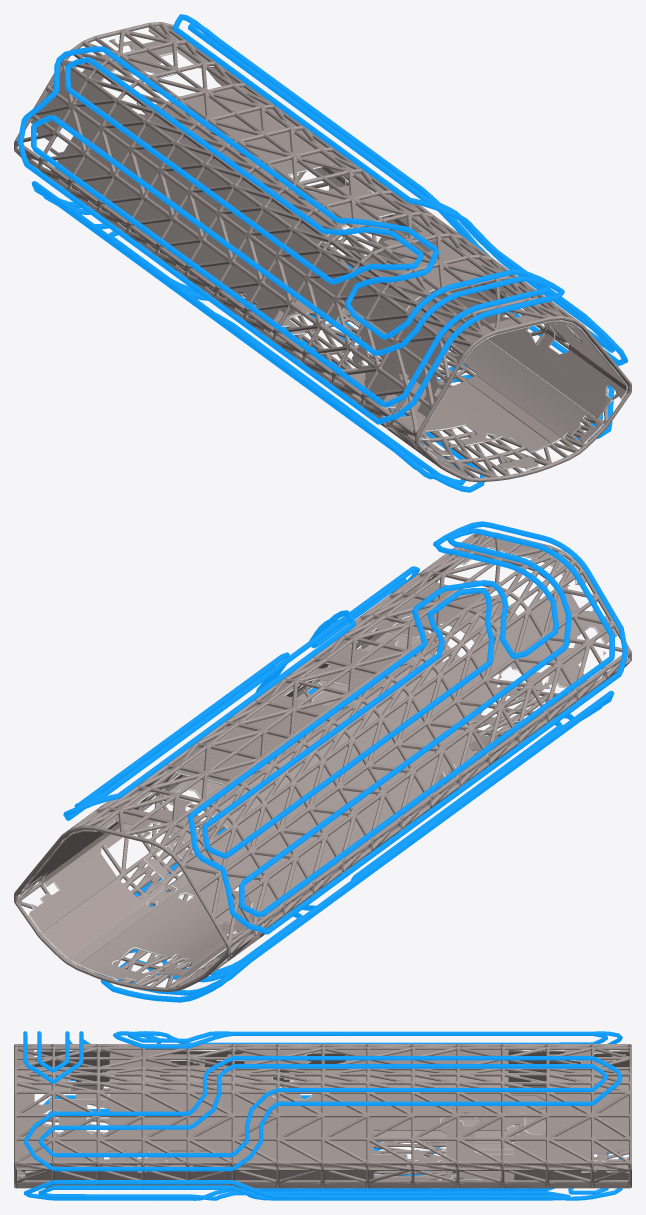
The model's file is Tunnel_Panels_straight_interior.fbx.
3 renders of one model, top to bottom at view 1: azimuth 30°, elevation 25°; view 2: azimuth 150°, elevation 25°; view 3: azimuth 270°, elevation 25°, orthographic. The views are drawn at different scales.
Parts seen in each view (by area): view 1: trapezoid.175_ContourCurves.010, trapezoid.175_ContourCurves.009; view 2: trapezoid.175_ContourCurves.010, trapezoid.175_ContourCurves.009; view 3: trapezoid.175_ContourCurves.010, trapezoid.175_ContourCurves.009.
Part boxes in pixels (<box>): trapezoid.175_ContourCurves.010: <box>18,14,627,492</box>; trapezoid.175_ContourCurves.009: <box>14,22,631,482</box>; trapezoid.175_ContourCurves.010: <box>19,521,627,1002</box>; trapezoid.175_ContourCurves.009: <box>14,532,631,991</box>; trapezoid.175_ContourCurves.010: <box>17,1031,628,1200</box>; trapezoid.175_ContourCurves.009: <box>14,1044,631,1188</box>.
Size of what is drawn, in the model's own units: 8465 by 6015 by 24122.
